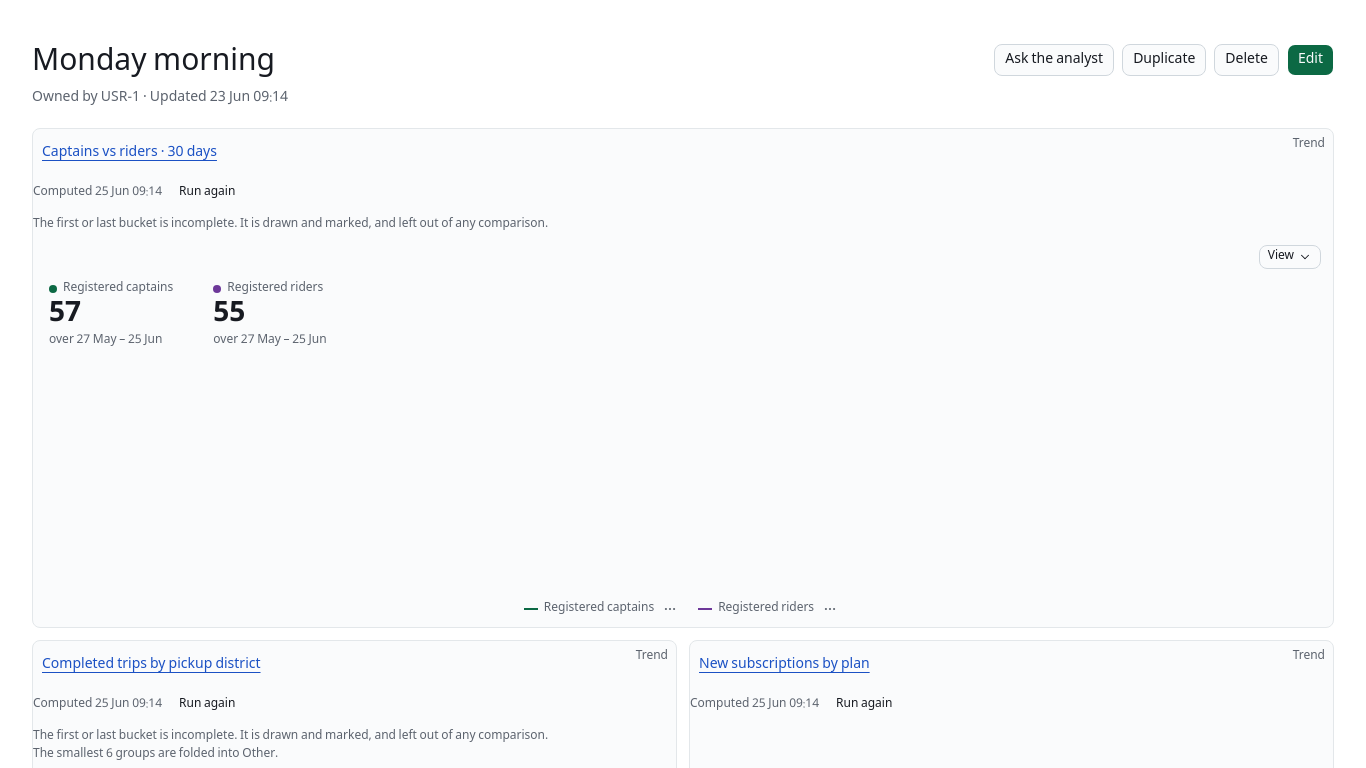
Test: Edit / Done — AC-1195 › shows Edit for the owner and swaps to Done in edit mode
Click the button "Edit" at (1310, 60), box [1287,44,1334,76]
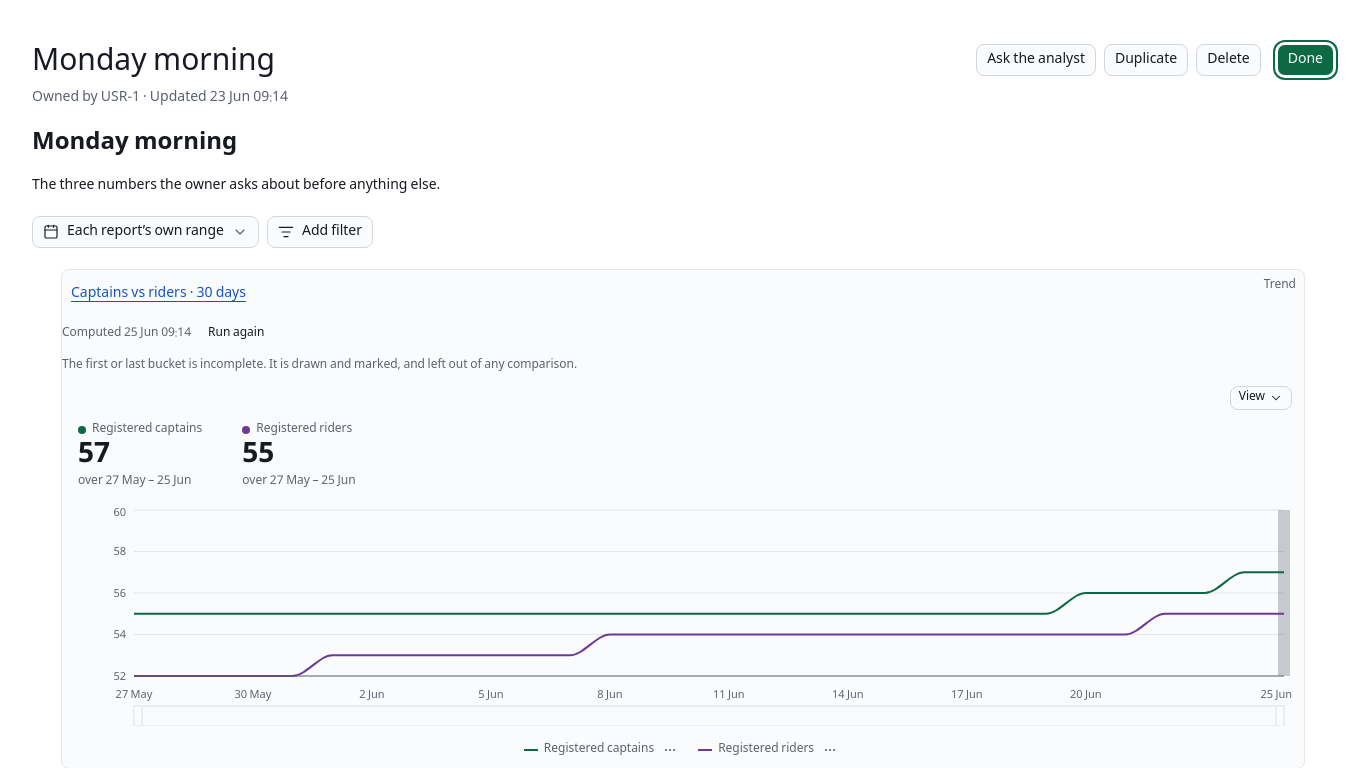
Now the button "Done" is shown, box [1277,44,1334,76]
